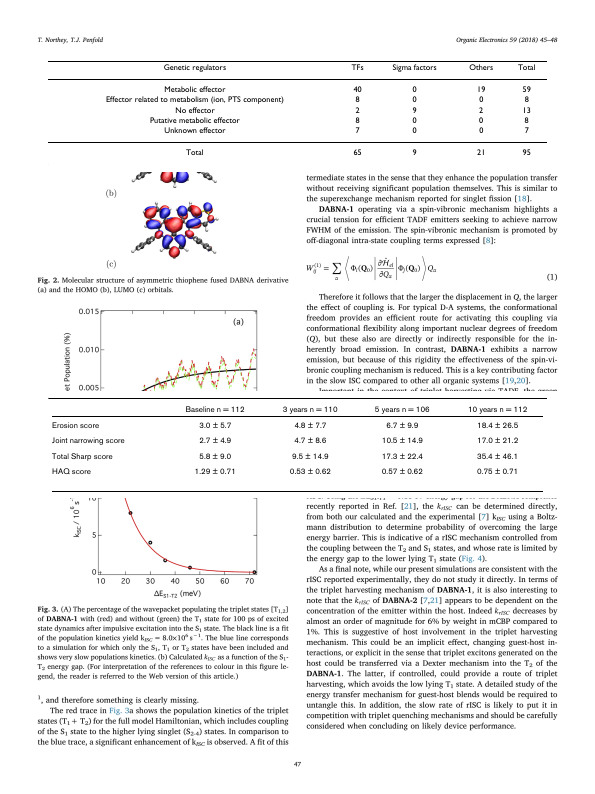borderless: (46, 59, 548, 166), (47, 396, 543, 491)
cell: (104, 96, 284, 106), (148, 116, 240, 126), (50, 437, 125, 447), (162, 63, 227, 73), (50, 452, 113, 462), (466, 405, 528, 415), (184, 405, 245, 415), (281, 405, 338, 415), (373, 405, 430, 415), (163, 86, 226, 95), (163, 127, 226, 136), (50, 421, 99, 431), (391, 63, 437, 73), (475, 421, 519, 431), (475, 437, 519, 447), (475, 452, 519, 462), (475, 468, 519, 478), (380, 437, 423, 447), (380, 452, 423, 462), (193, 468, 236, 478), (288, 468, 331, 478), (380, 468, 423, 478), (50, 468, 91, 478), (174, 106, 215, 116), (290, 452, 329, 462), (198, 421, 232, 431), (293, 421, 327, 431), (385, 421, 419, 431), (198, 437, 232, 447), (293, 437, 327, 447), (198, 452, 232, 462), (468, 63, 494, 73), (516, 63, 536, 73), (185, 149, 204, 159), (350, 63, 364, 73), (521, 106, 531, 116), (352, 149, 362, 159), (476, 149, 486, 159), (521, 149, 531, 159), (352, 86, 362, 95), (476, 86, 486, 95), (521, 86, 531, 95), (354, 96, 360, 106), (411, 96, 417, 106), (478, 96, 484, 106), (523, 96, 529, 106), (354, 106, 360, 116), (411, 106, 417, 116), (478, 106, 484, 116), (354, 116, 360, 126), (411, 116, 417, 126), (478, 116, 484, 126), (523, 116, 529, 126), (411, 149, 417, 159), (411, 86, 417, 95), (354, 127, 360, 136), (411, 127, 417, 136), (478, 127, 484, 136), (523, 127, 529, 136)
